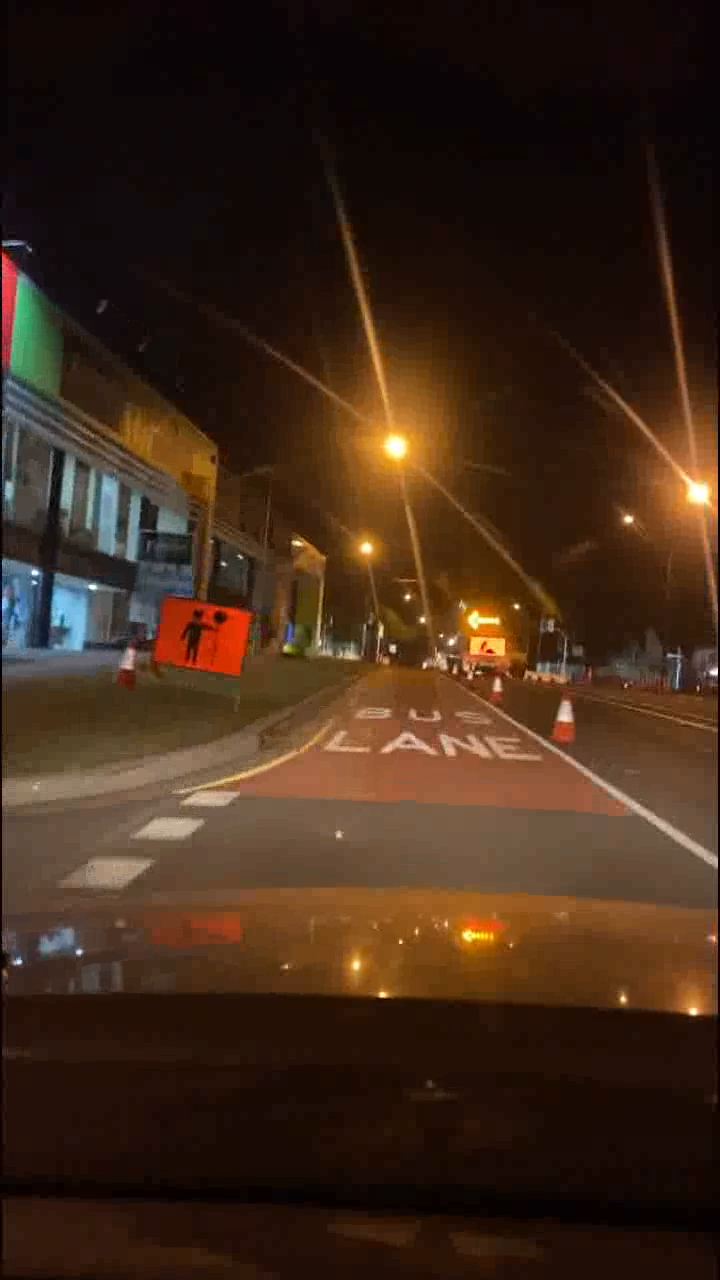prepare to stop board: (141, 586, 266, 688)
road cone: (541, 690, 585, 755), (475, 669, 516, 724)
truck: (433, 596, 525, 688)
